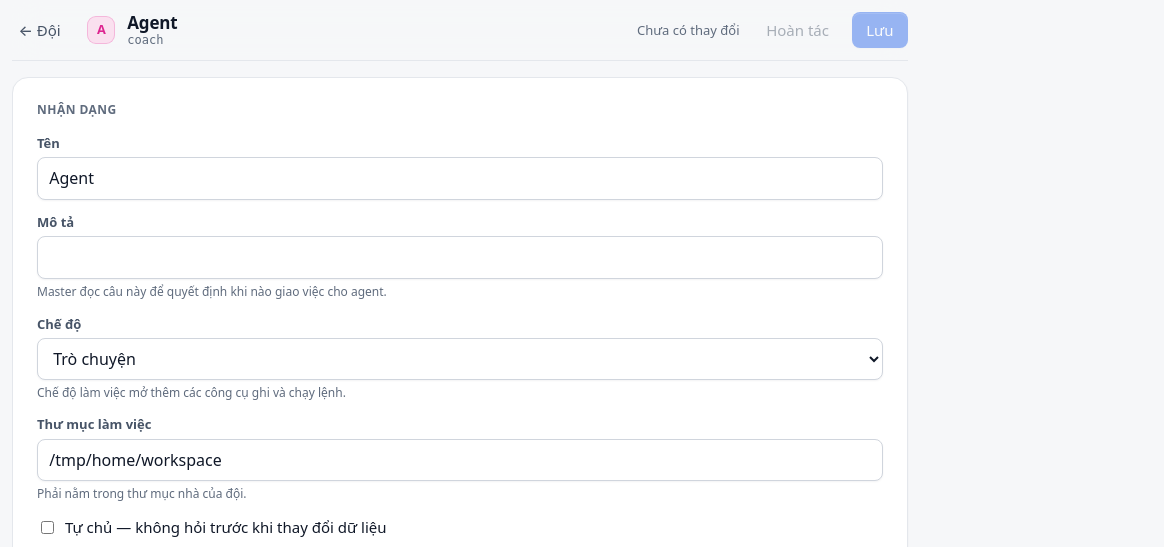
Test case: a change to the mode or to the delegates that is not saved yet › is to be saved first, the picker says in a line under it, and its rows stay as saved
In the field labelled "Tên": x=460, y=179 [37,157,883,200], type " mới"
(page scrolled)
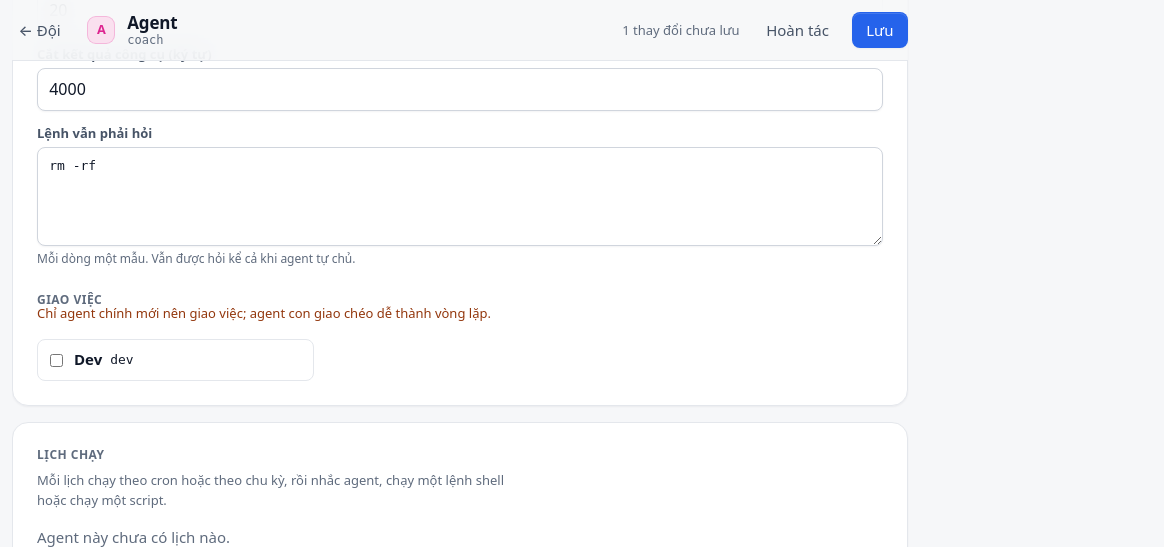
Click the checkbox labelled "Dev dev": x=56, y=360 [50,354,63,367]
(page scrolled)
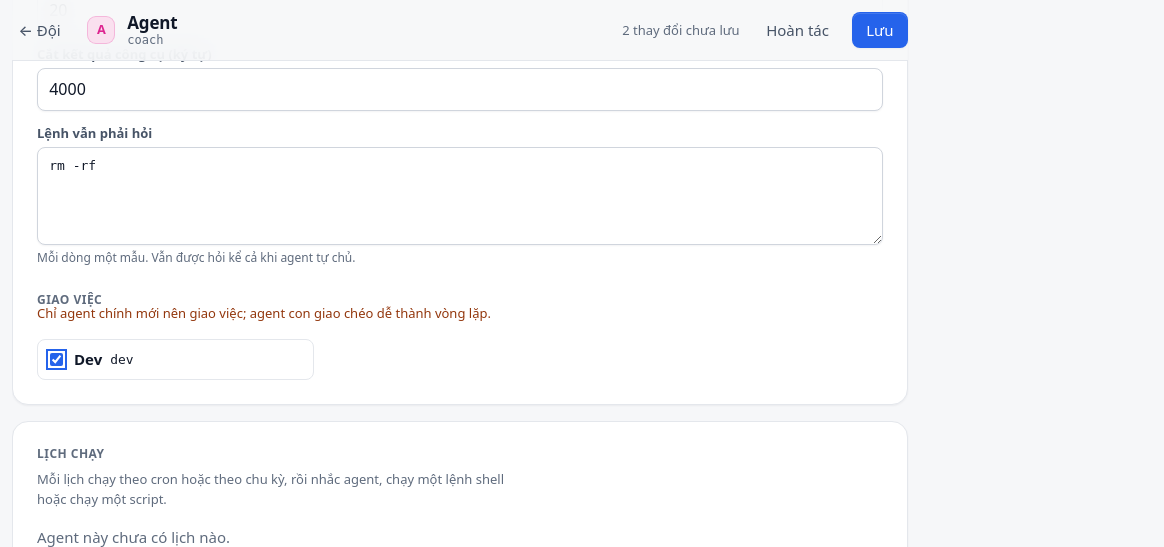
Click the checkbox labelled "Dev dev": x=56, y=360 [50,353,63,366]
(page scrolled)
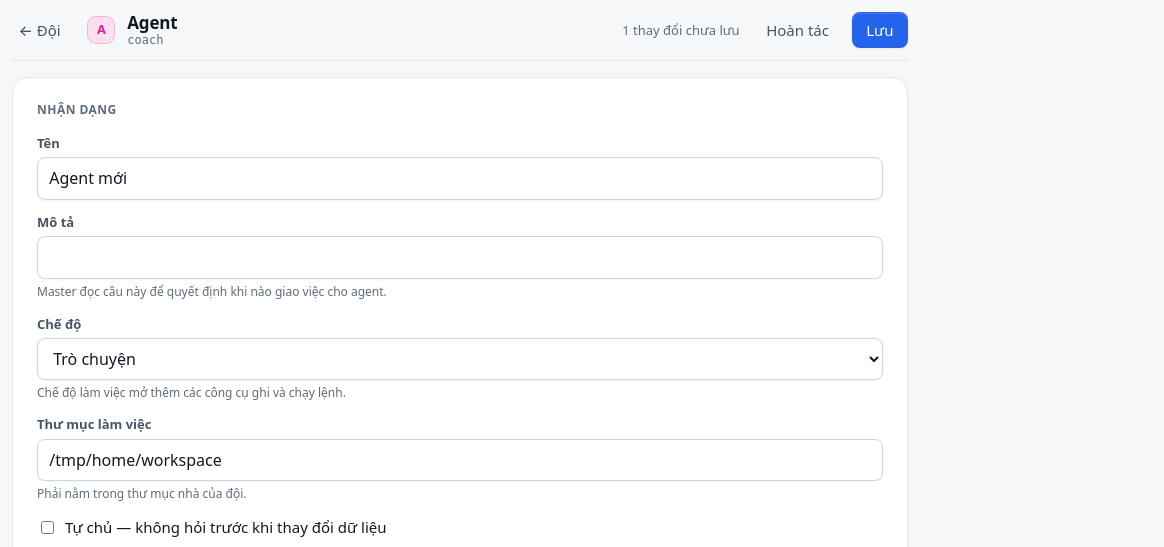
Select "Làm việc" in the dropdown labelled "Chế độ": x=460, y=359 [37,338,883,380]
(page scrolled)
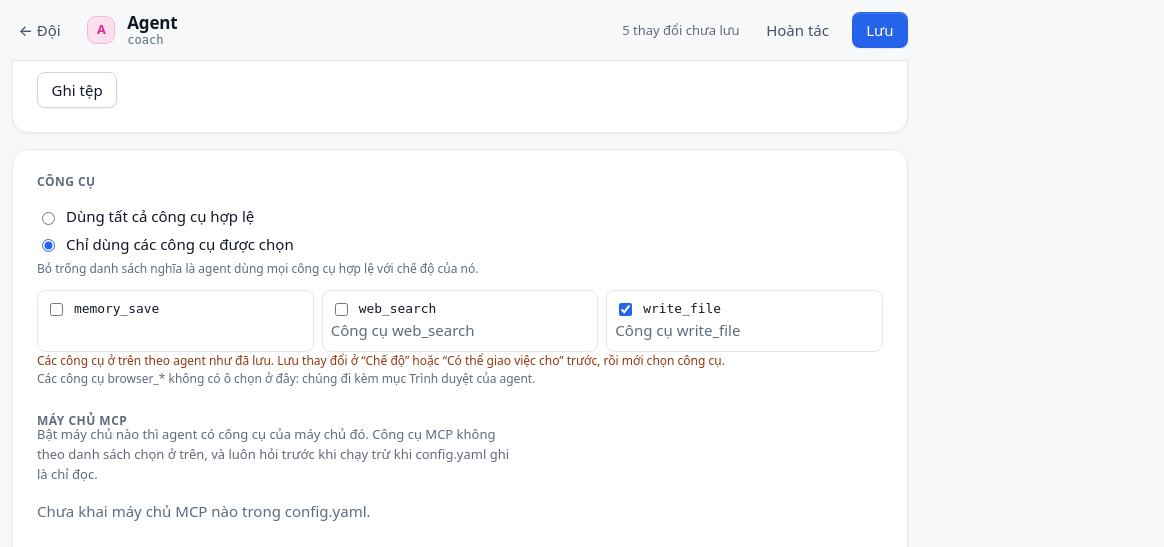
Expected: the text "Các công cụ ở trên theo agent như đã lưu. Lưu thay đổi ở “Chế độ” hoặc “Có thể giao việc cho” trước, rồi mới chọn công c" is shown, [37,352,725,369]
